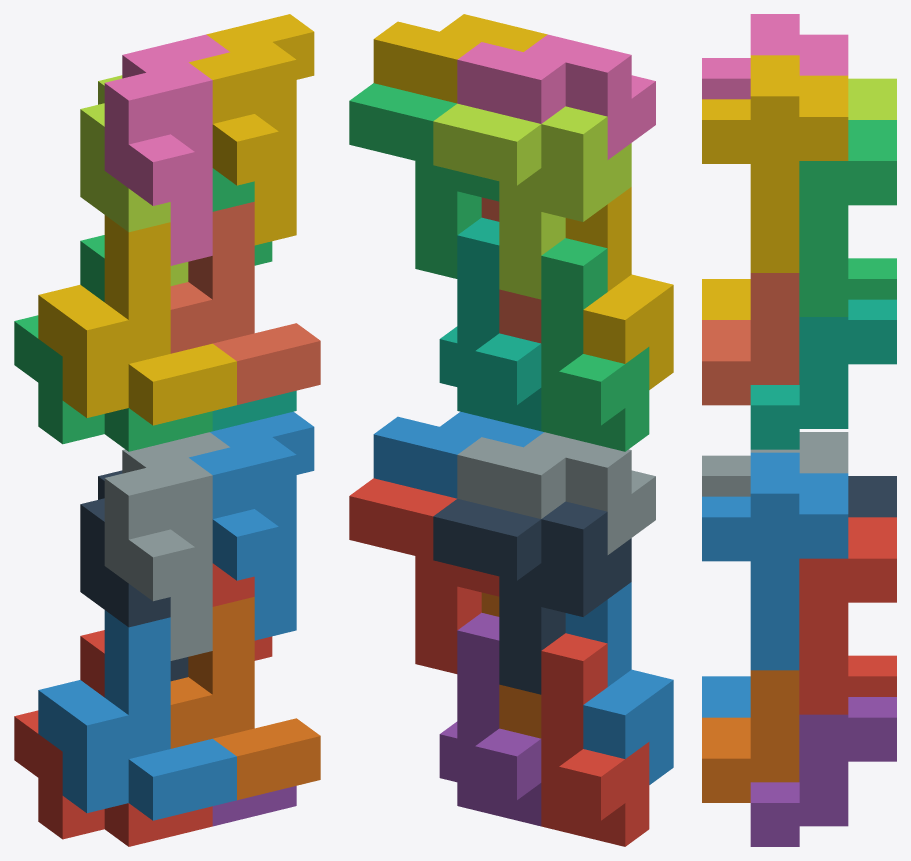
The model's file is tiling.obj.
The picture shows the model from 3 angles, left to right: view 1: azimuth 30°, elevation 25°; view 2: azimuth 150°, elevation 25°; view 3: azimuth 270°, elevation 25°; orthographic projection.
Parts seen in each view (by area): view 1: copy_1_domain_2, copy_1_domain_4, copy_2_domain_4, copy_2_domain_2, copy_2_domain_8, copy_2_domain_6, copy_1_domain_8, copy_1_domain_6, copy_1_domain_1, copy_1_domain_3, copy_2_domain_1, copy_2_domain_3 (+4 smaller); view 2: copy_2_domain_3, copy_2_domain_1, copy_1_domain_3, copy_1_domain_1, copy_2_domain_4, copy_2_domain_2, copy_1_domain_5, copy_1_domain_7, copy_2_domain_7, copy_2_domain_5, copy_1_domain_2, copy_1_domain_4 (+4 smaller); view 3: copy_2_domain_6, copy_2_domain_8, copy_2_domain_5, copy_1_domain_7, copy_1_domain_5, copy_2_domain_7, copy_1_domain_6, copy_1_domain_8, copy_2_domain_4, copy_2_domain_2, copy_1_domain_1, copy_1_domain_2 (+4 smaller).
Part boxes in pixels (x1=…): copy_1_domain_2: x1=38, y1=610, x2=236, y2=820; copy_1_domain_4: x1=38, y1=215, x2=236, y2=425; copy_2_domain_4: x1=104, y1=34, x2=229, y2=265; copy_2_domain_2: x1=104, y1=432, x2=229, y2=660; copy_2_domain_8: x1=189, y1=14, x2=314, y2=245; copy_2_domain_6: x1=189, y1=411, x2=314, y2=640; copy_1_domain_8: x1=170, y1=201, x2=320, y2=404; copy_1_domain_6: x1=170, y1=597, x2=320, y2=800; copy_1_domain_1: x1=14, y1=630, x2=212, y2=846; copy_1_domain_3: x1=14, y1=235, x2=212, y2=451; copy_2_domain_1: x1=80, y1=470, x2=188, y2=681; copy_2_domain_3: x1=80, y1=75, x2=188, y2=285; copy_2_domain_3: x1=433, y1=103, x2=631, y2=299; copy_2_domain_1: x1=433, y1=498, x2=631, y2=694; copy_1_domain_3: x1=541, y1=238, x2=649, y2=451; copy_1_domain_1: x1=541, y1=633, x2=649, y2=846; copy_2_domain_4: x1=457, y1=34, x2=655, y2=159; copy_2_domain_2: x1=457, y1=432, x2=655, y2=554; copy_1_domain_5: x1=439, y1=612, x2=541, y2=826; copy_1_domain_7: x1=439, y1=217, x2=541, y2=431; copy_2_domain_7: x1=349, y1=83, x2=499, y2=278; copy_2_domain_5: x1=349, y1=478, x2=499, y2=673; copy_1_domain_2: x1=565, y1=582, x2=673, y2=784; copy_1_domain_4: x1=565, y1=187, x2=673, y2=389; copy_2_domain_6: x1=702, y1=452, x2=848, y2=670; copy_2_domain_8: x1=702, y1=55, x2=848, y2=272; copy_2_domain_5: x1=799, y1=517, x2=896, y2=714; copy_1_domain_7: x1=750, y1=299, x2=896, y2=449; copy_1_domain_5: x1=750, y1=697, x2=896, y2=846; copy_2_domain_7: x1=799, y1=120, x2=896, y2=316; copy_1_domain_6: x1=702, y1=670, x2=799, y2=802; copy_1_domain_8: x1=702, y1=273, x2=799, y2=405; copy_2_domain_4: x1=702, y1=14, x2=848, y2=99; copy_2_domain_2: x1=702, y1=432, x2=848, y2=496; copy_1_domain_1: x1=848, y1=655, x2=896, y2=696; copy_1_domain_2: x1=702, y1=676, x2=750, y2=717.
Bounding box in the file's own units: 6 × 17 × 4.
